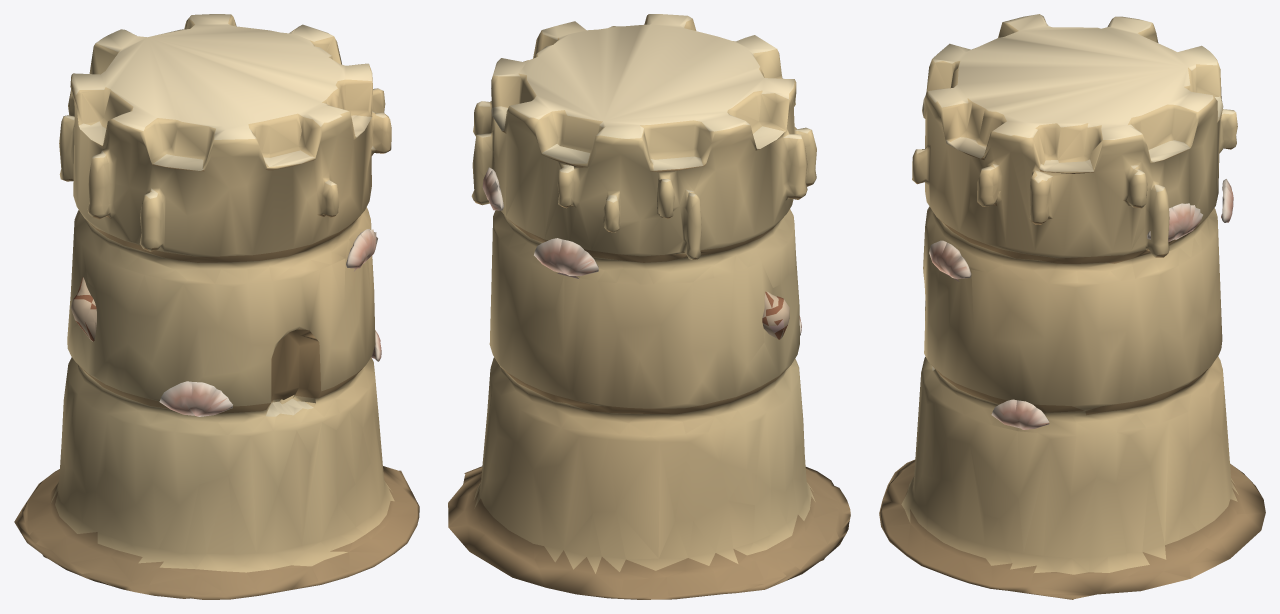
File: shore_castle_tower_lod1.glb
3 renders of one model, left to right at view 1: azimuth 30°, elevation 25°; view 2: azimuth 150°, elevation 25°; view 3: azimuth 270°, elevation 25°, orthographic.
Parts seen in each view (by area): view 1: shore_castle_tower.001; view 2: shore_castle_tower.001; view 3: shore_castle_tower.001.
Boxes of the visible parts, x1=… form: shore_castle_tower.001: x1=14, y1=14, x2=419, y2=599; shore_castle_tower.001: x1=448, y1=14, x2=850, y2=599; shore_castle_tower.001: x1=879, y1=14, x2=1265, y2=599.
Size of the model in its own units: 11.92 by 14 by 11.21.
